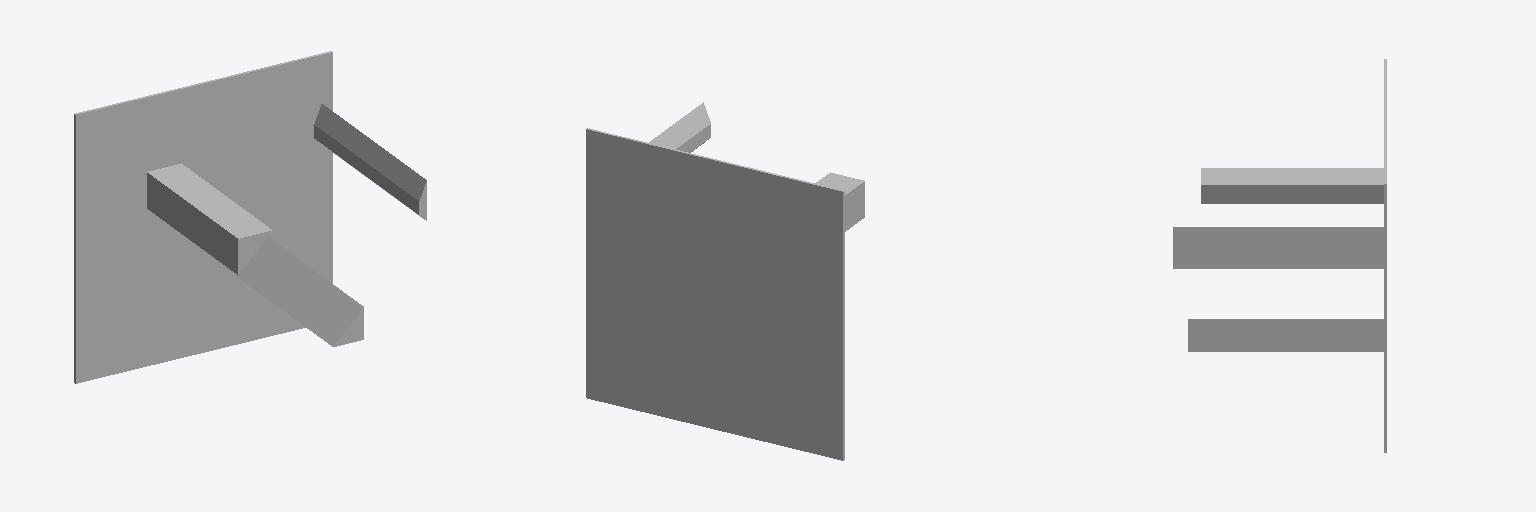
The model's file is floor.obj.
3 renders of one model, left to right at view 1: azimuth 30°, elevation 25°; view 2: azimuth 150°, elevation 25°; view 3: azimuth 270°, elevation 25°, orthographic.
Parts seen in each view (by area): view 1: Cube.001; view 2: Cube.001; view 3: Cube.001.
Boxes of the visible parts, x1,y1,x2,y2 form: Cube.001: [74, 51, 426, 383]; Cube.001: [586, 102, 864, 460]; Cube.001: [1173, 59, 1386, 452].
Bounding box in the file's own units: 200 × 200 × 144.